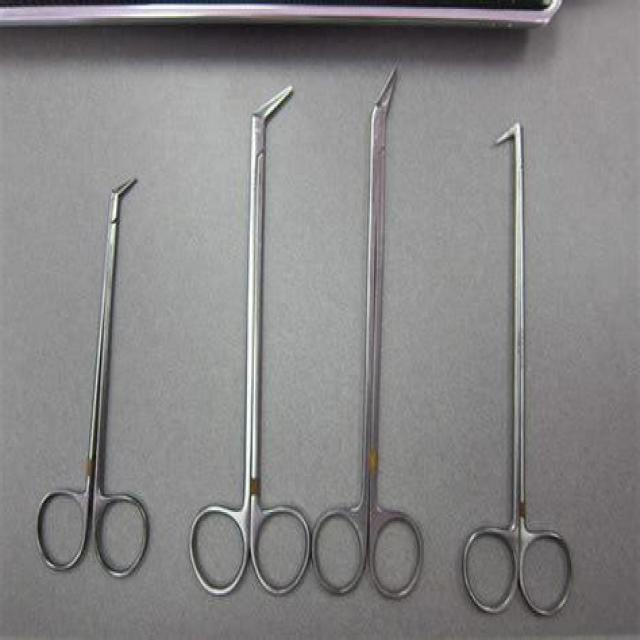Potts: (186, 79, 314, 602), (310, 61, 426, 606), (455, 117, 577, 626), (34, 172, 154, 582)
